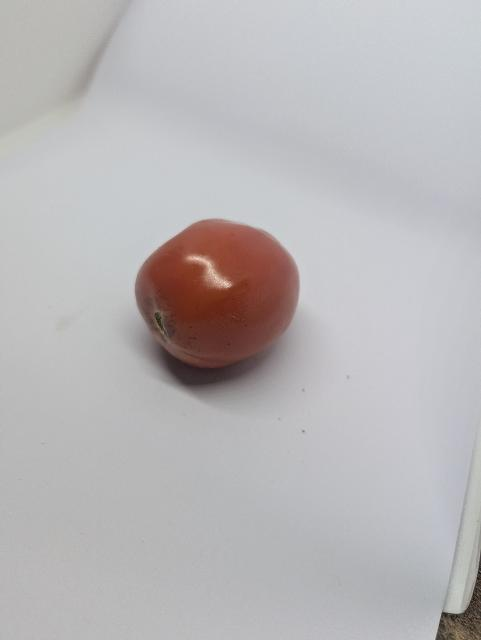red: (128, 211, 307, 376)
